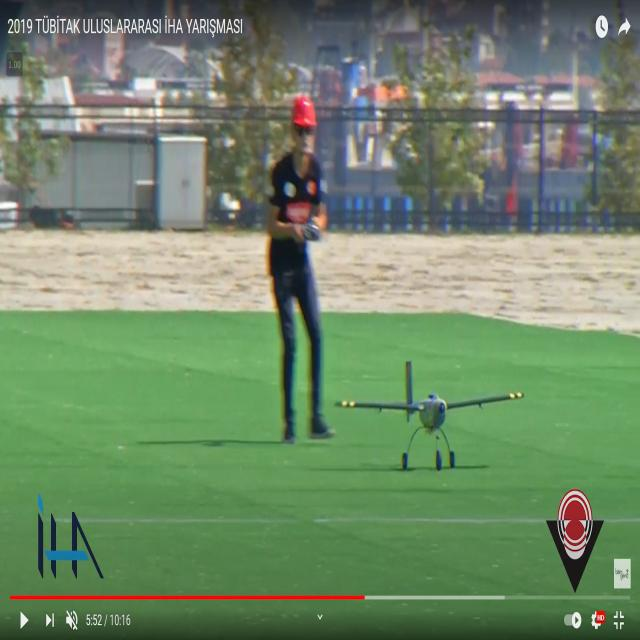iha: (333, 388, 524, 444)
